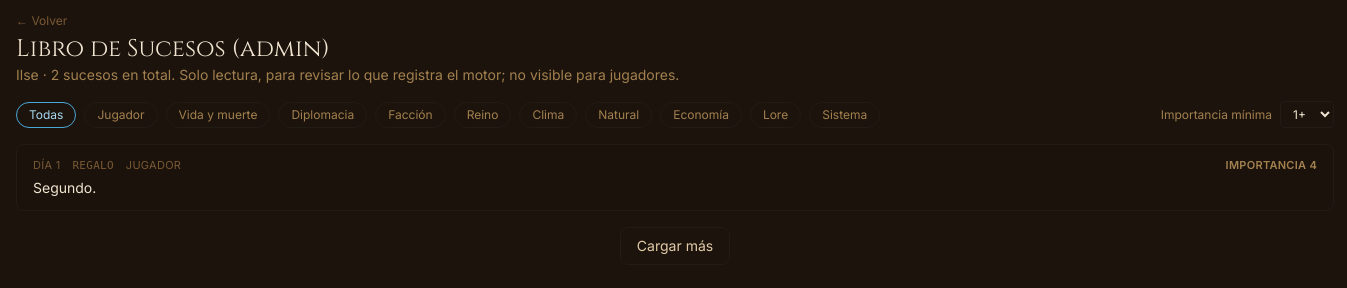
Scenario: CR-4 — AdminLibro › «Cargar más» pide los anteriores al último y los añade
Expected: the text "Segundo." is shown, 33,179 -> 96,196
Click the button "Cargar más". click: (675, 246)
box: 620,227 -> 730,265
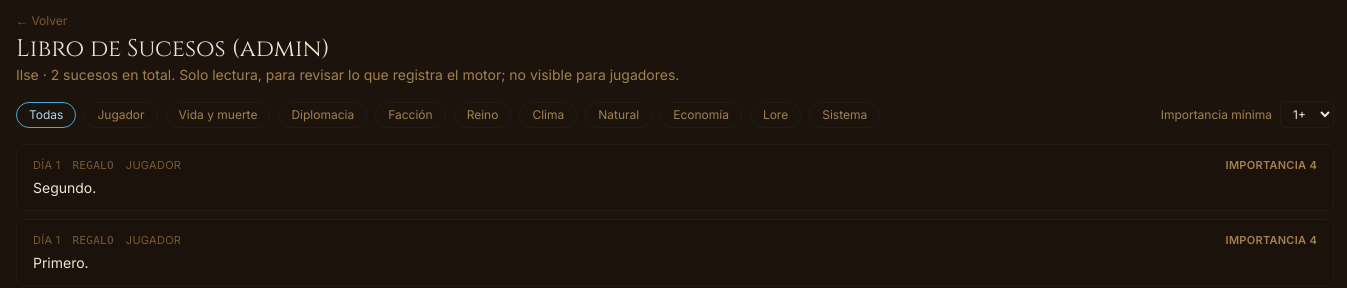
Expected: the text "Primero." is shown, 33,254 -> 89,271
Expected: the button "Cargar más" is gone
